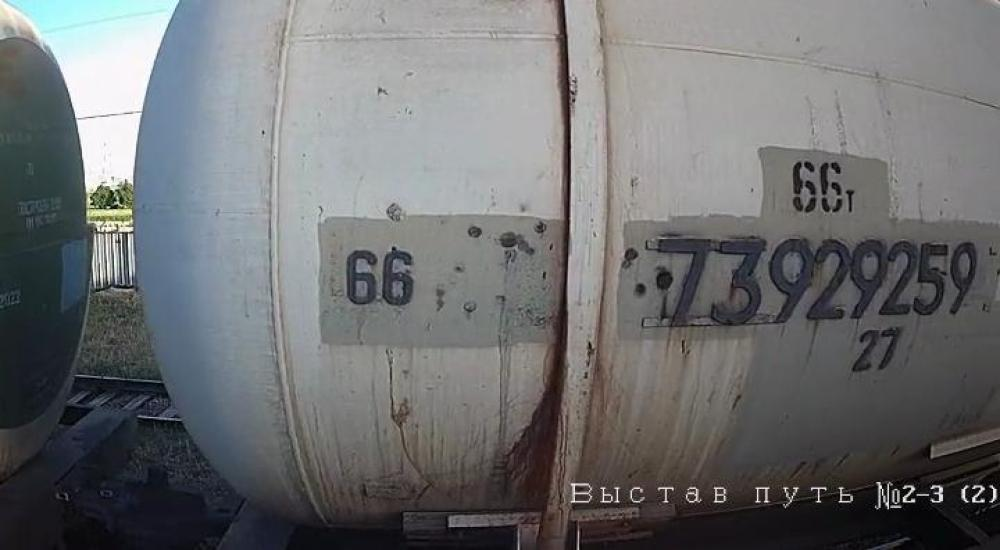Wagon-number: (646, 230, 982, 330)
